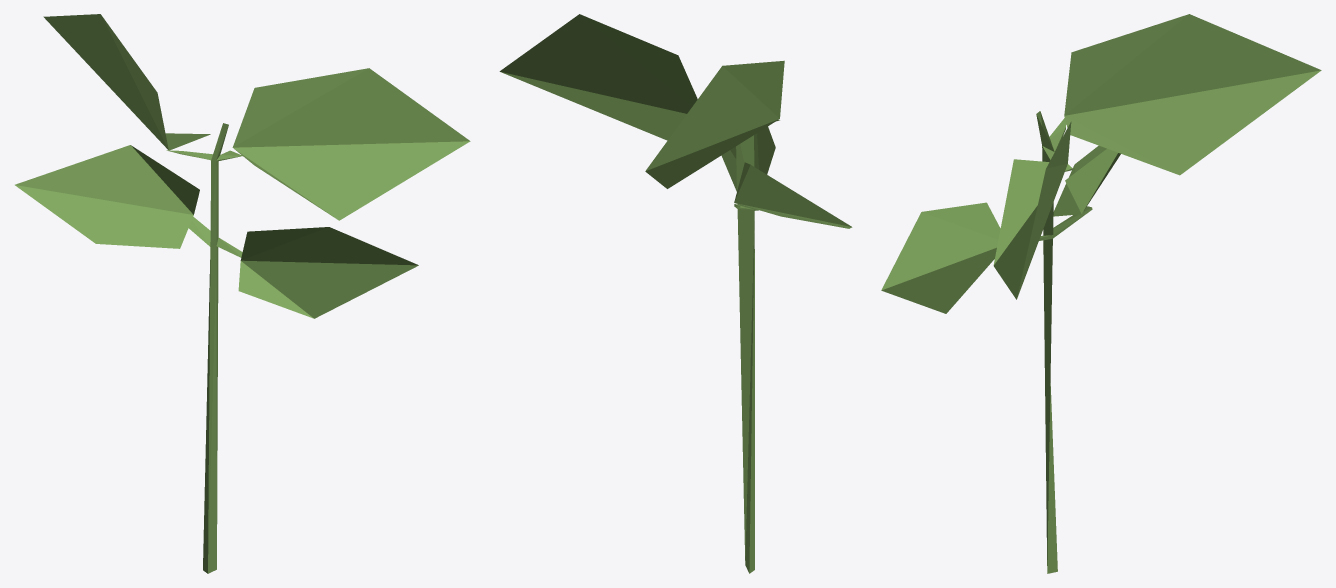
The model's file is Peppers_3.fbx.
3 views of the same model, side by side, from view 1: azimuth 30°, elevation 25°; view 2: azimuth 150°, elevation 25°; view 3: azimuth 270°, elevation 25° (orthographic). The views are drawn at different scales.
Visible parts, largest first — view 1: Peppers_3; view 2: Peppers_3; view 3: Peppers_3.
Part boxes in pixels (x1,y1,x2,y2): Peppers_3: (15, 14, 470, 573); Peppers_3: (499, 14, 852, 573); Peppers_3: (881, 14, 1321, 573).
Size of the model in its own units: 28.6 by 36.45 by 27.05.
